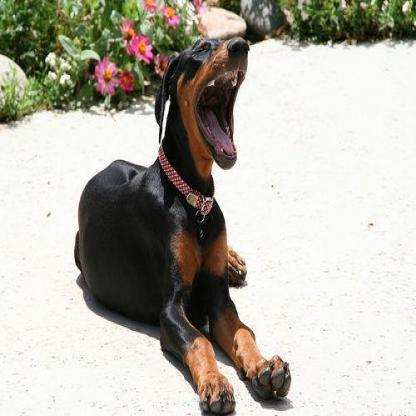Doberman: (72, 35, 292, 413)
